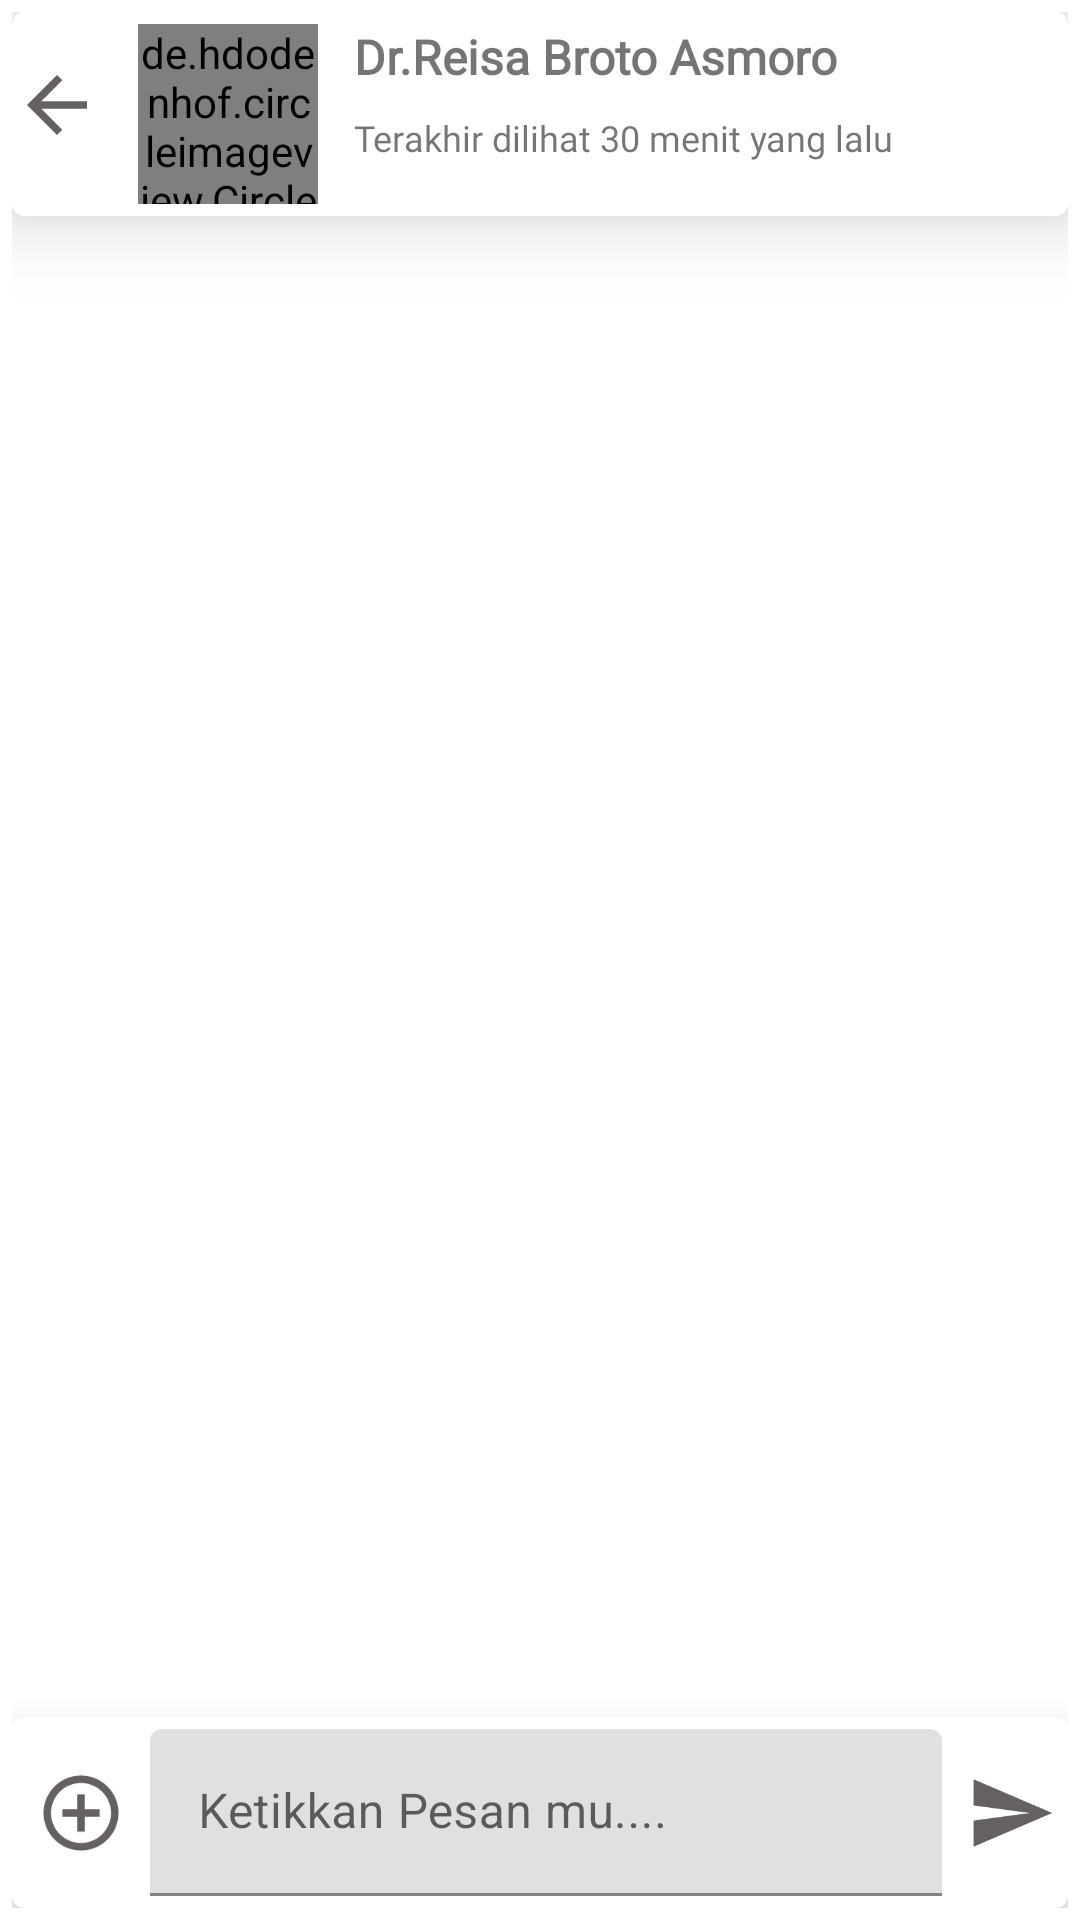

Where to tap for icons on this 1080w x 1920h app screen, as [x,y]:
add circle: [81,1813]
arrow back: [57,105]
send: [1012,1813]
